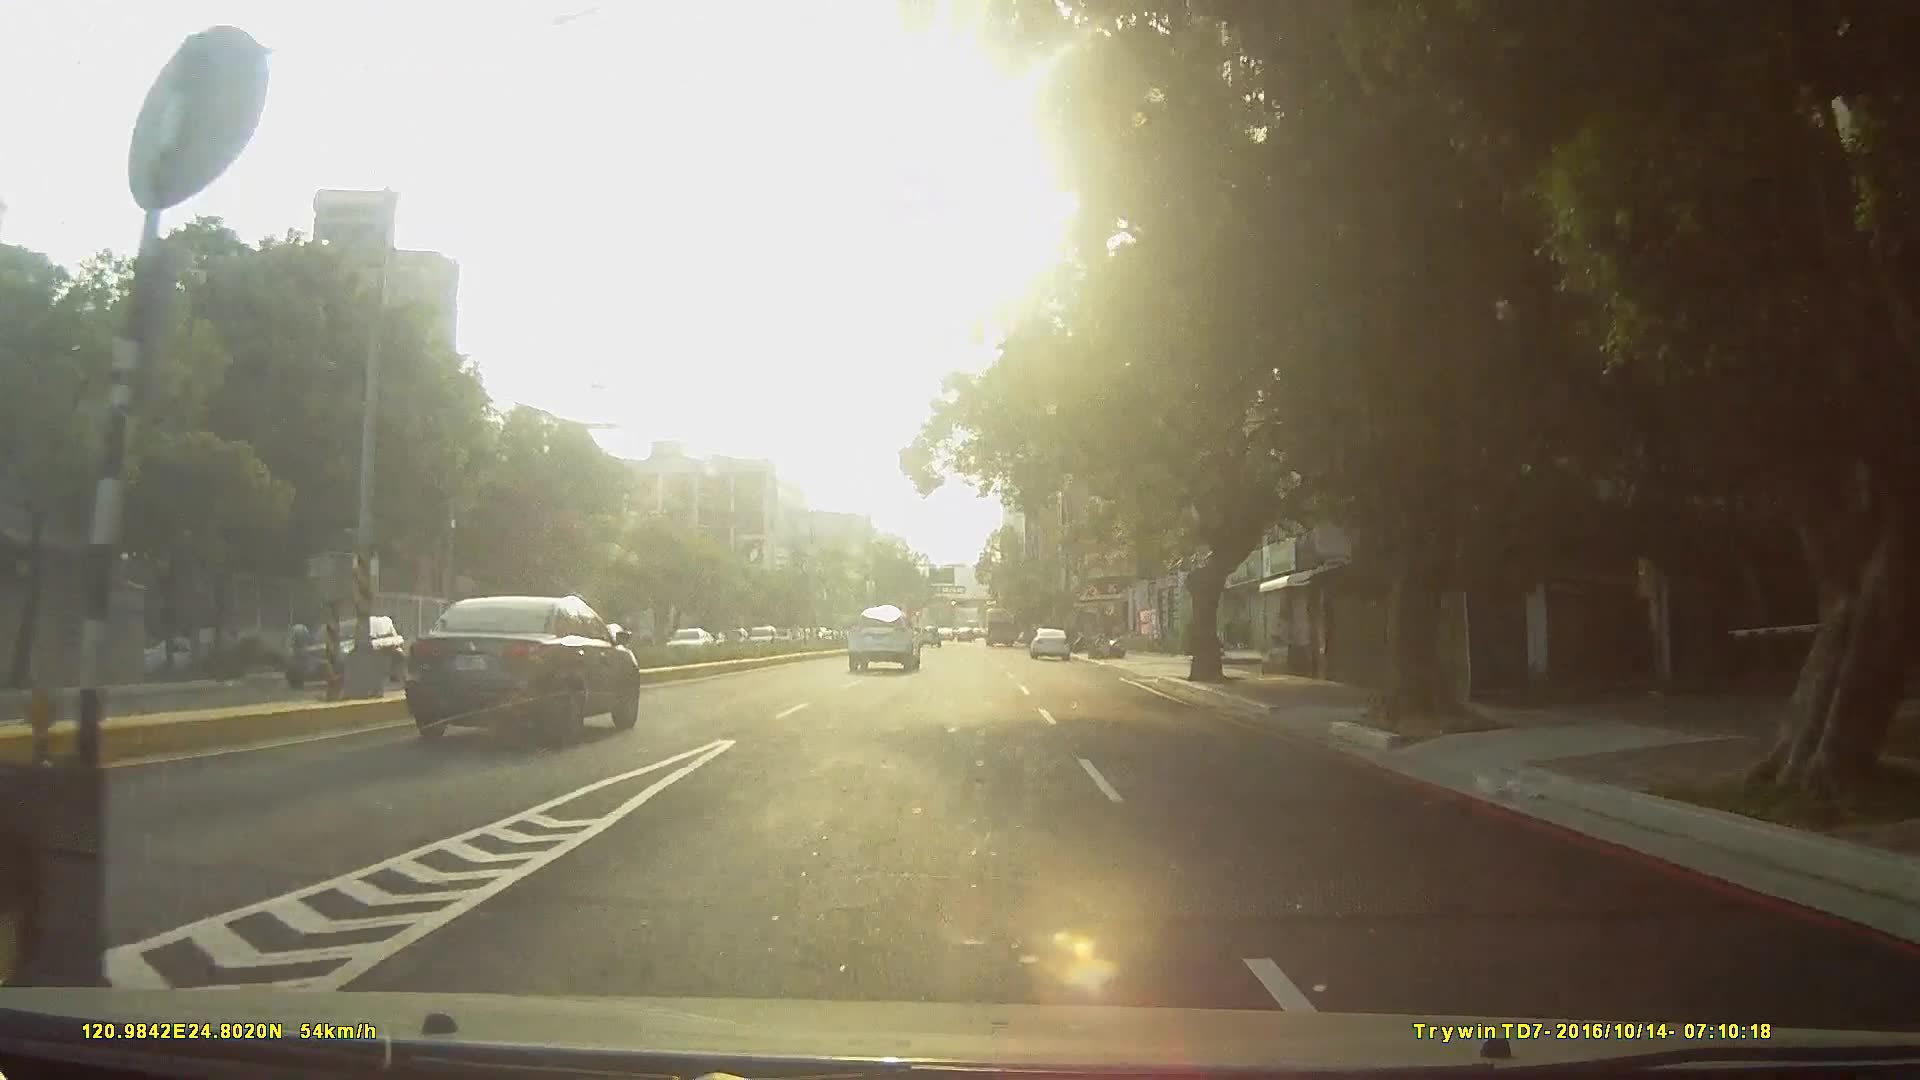pedestrian: (293, 623, 318, 675)
vehicle: (407, 590, 644, 742), (259, 616, 413, 698), (844, 604, 922, 671), (1028, 623, 1072, 661), (982, 605, 1018, 648)
